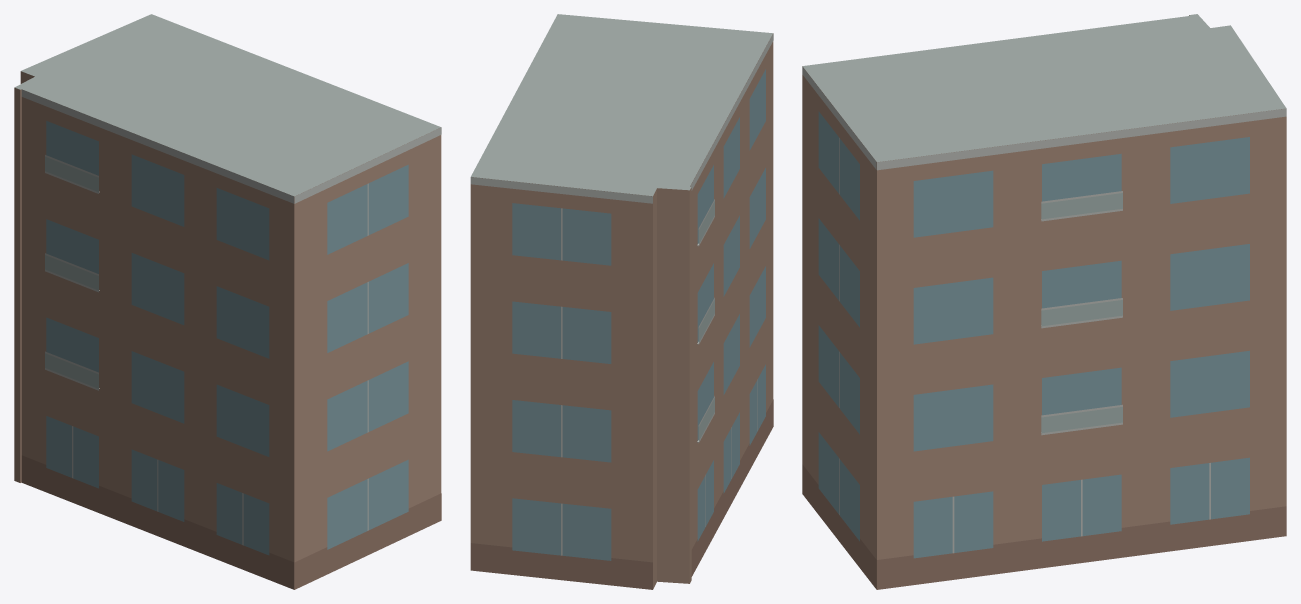
Rendered from survey-upis-32464763.glb.
3 renders of one model, left to right at view 1: azimuth 30°, elevation 25°; view 2: azimuth 150°, elevation 25°; view 3: azimuth 270°, elevation 25°, orthographic. The views are drawn at different scales.
Visible parts, largest first — view 1: survey-upis-32464763.tmp; view 2: survey-upis-32464763.tmp; view 3: survey-upis-32464763.tmp.
Part boxes in pixels (x1,y1,x2,y2): survey-upis-32464763.tmp: (14, 14, 441, 589); survey-upis-32464763.tmp: (470, 14, 773, 589); survey-upis-32464763.tmp: (802, 14, 1286, 589).
Bounding box in the file's own units: 9.52 × 12.8 × 13.15.
